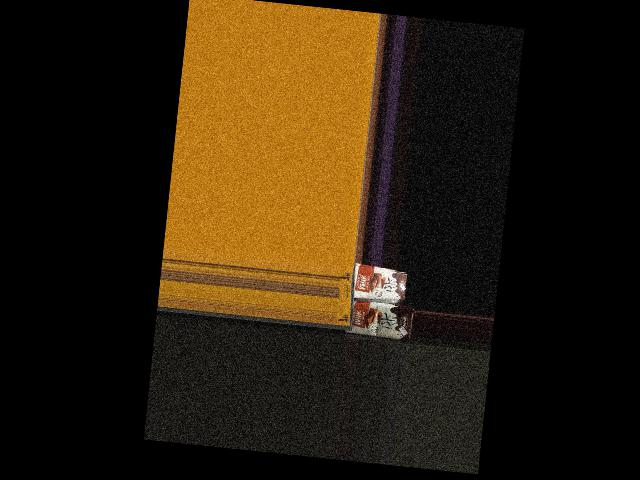chocolate: (345, 259, 409, 302)
